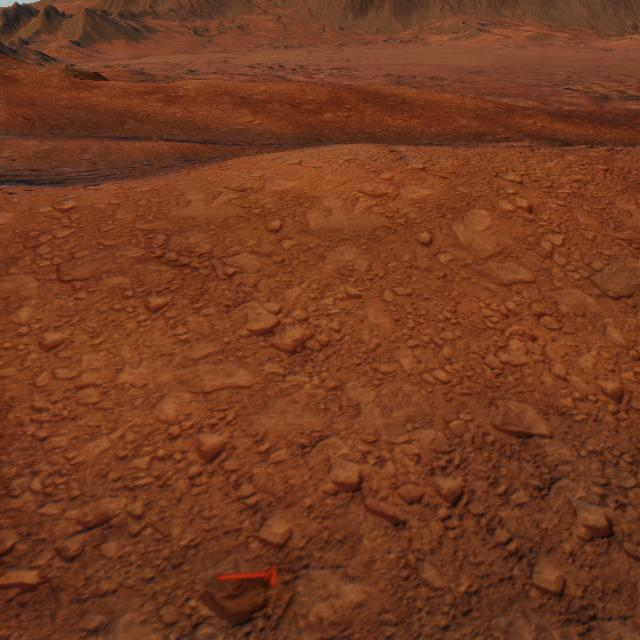newhammer: (217, 560, 276, 587)
